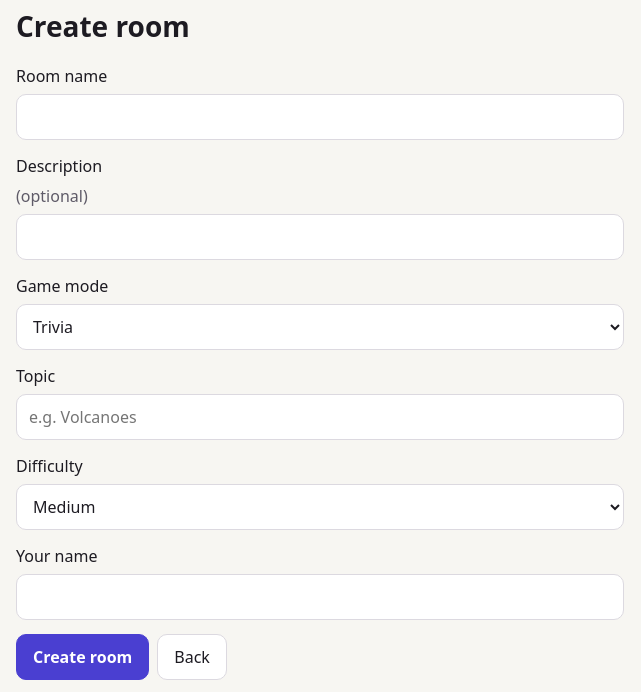
Scenario: blocks a too-short topic before sending
Type "Friday" into the field labelled "Room name". click: (320, 117)
box: [16,94,624,140]
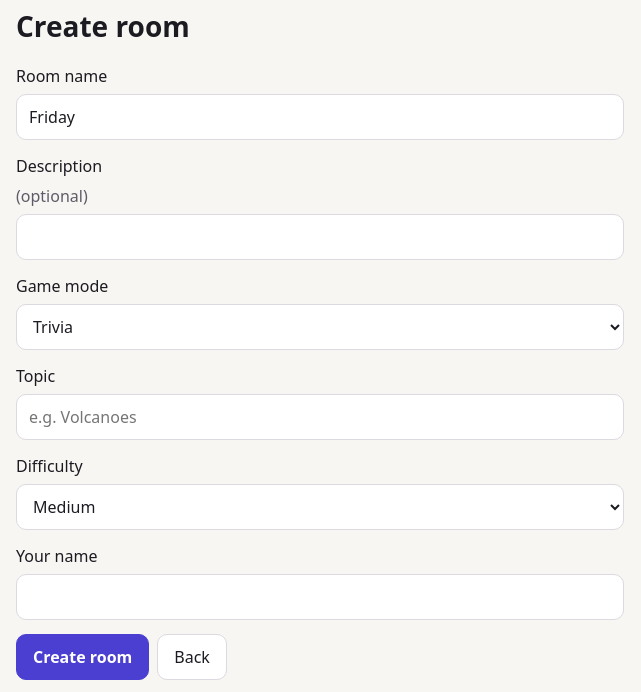
Type " x " into the field labelled "Topic". click: (320, 417)
box: [16,394,624,440]
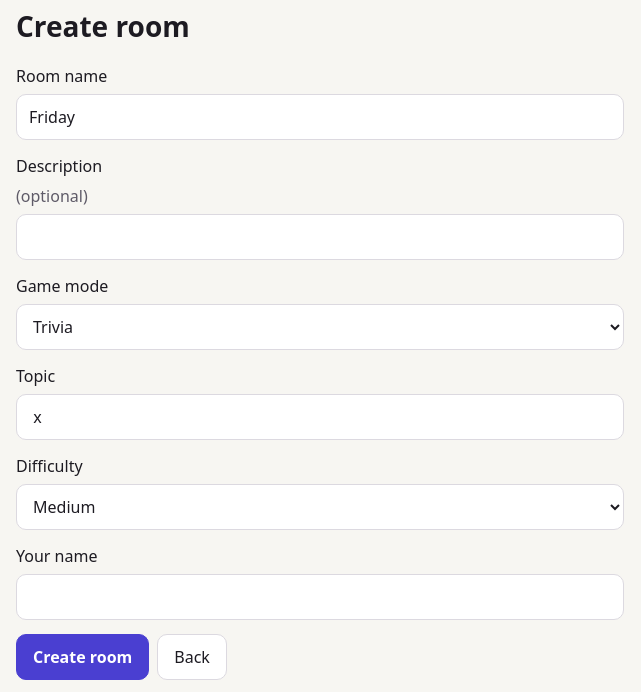
Type "ann" into the field labelled "Your name". click: (320, 597)
box: [16,574,624,620]
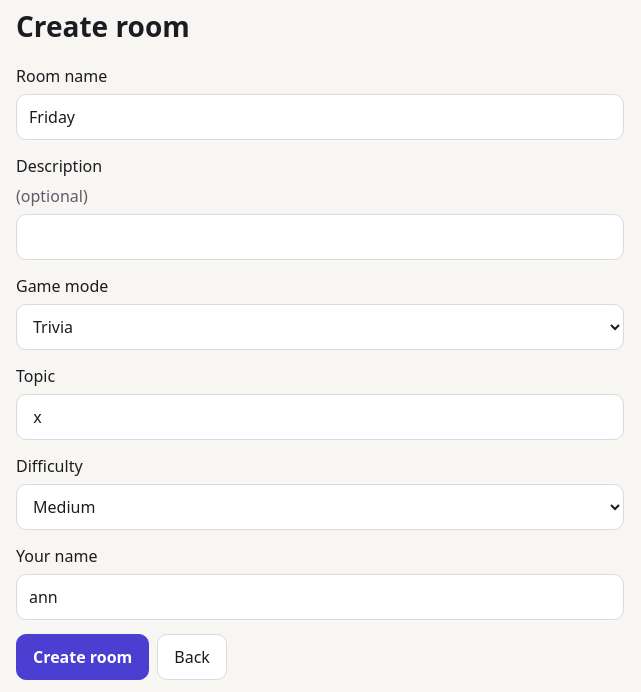
Click the button "Create room". click: (83, 657)
box: [16,634,149,680]
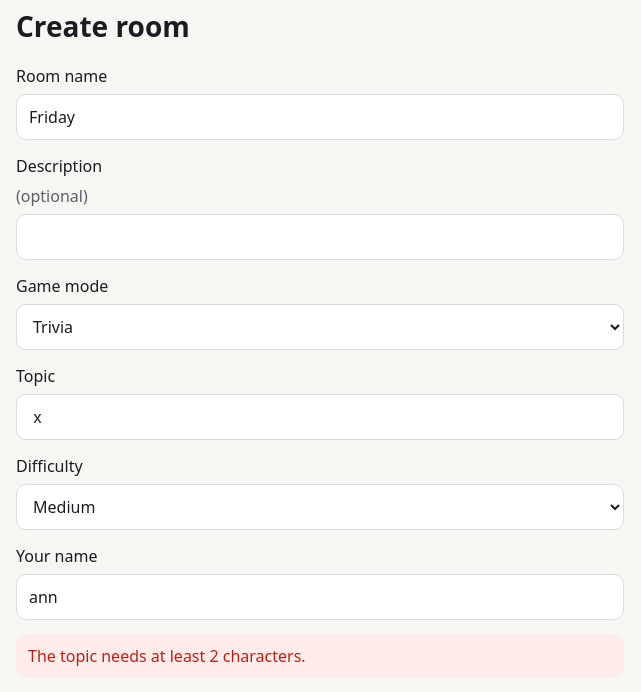
Check: the message shows "topic", box [28,645,306,667]
